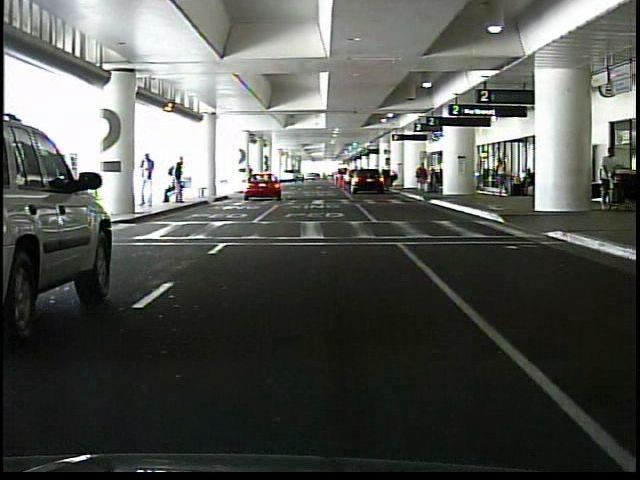person: (139, 153, 156, 208), (167, 159, 187, 204), (160, 170, 185, 206), (601, 144, 619, 176), (413, 163, 429, 196), (495, 159, 507, 198), (434, 167, 435, 193)
